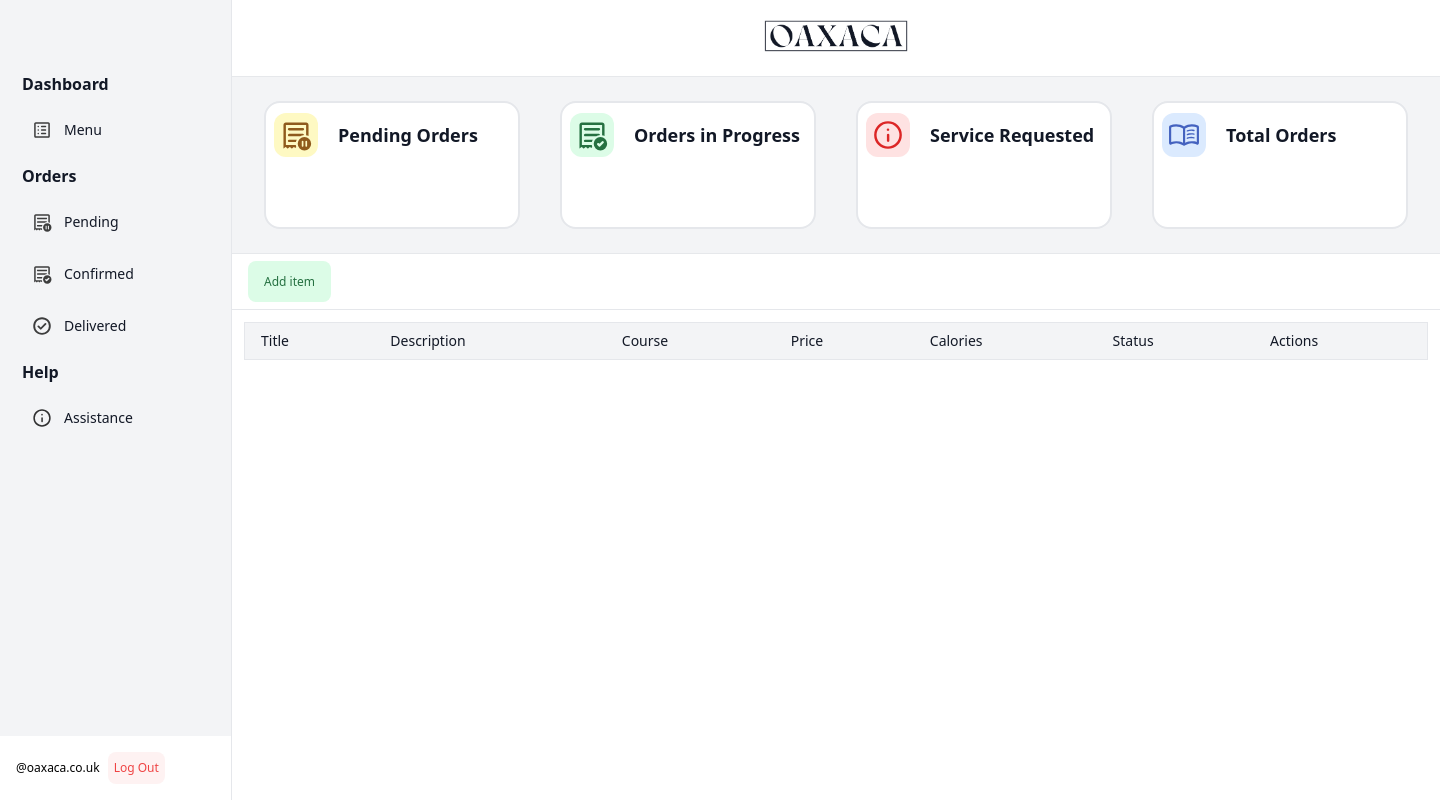
Test case: Test clicking on Pending button › Should navigate to pending orders section and display the correct information of orders
pending button
Click the link "Pending". click: coordinates (76, 222)
box: left=32, top=212, right=119, bottom=232
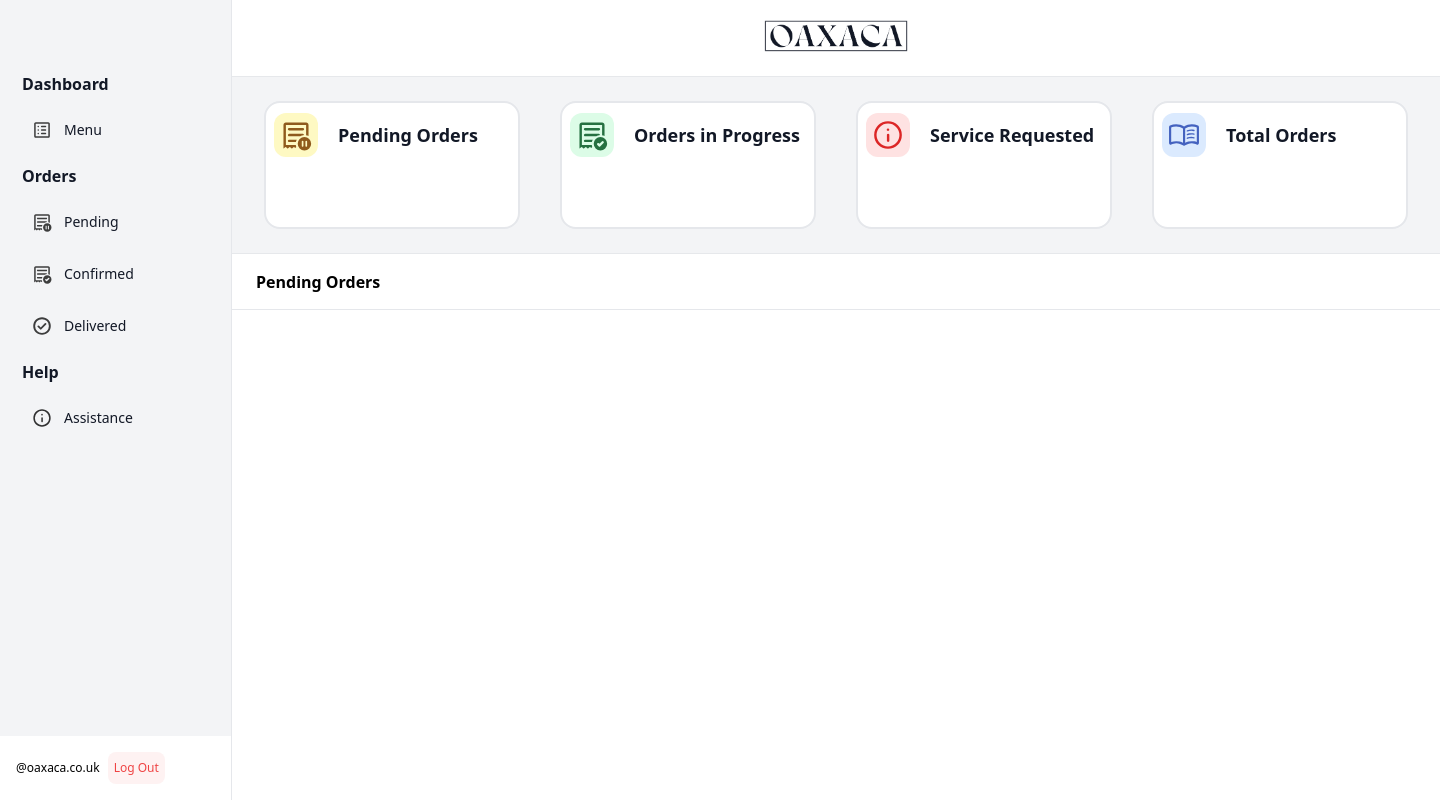
Check: the 2nd heading "Pending Orders" is shown, box left=256, top=271, right=380, bottom=293
